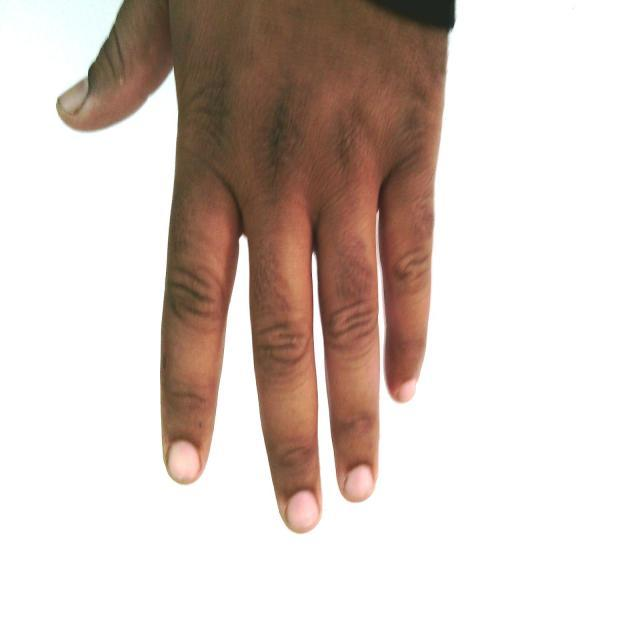Fingernail: (168, 442, 200, 482), (287, 491, 318, 532), (58, 79, 88, 114), (345, 465, 373, 500), (396, 381, 415, 402)
